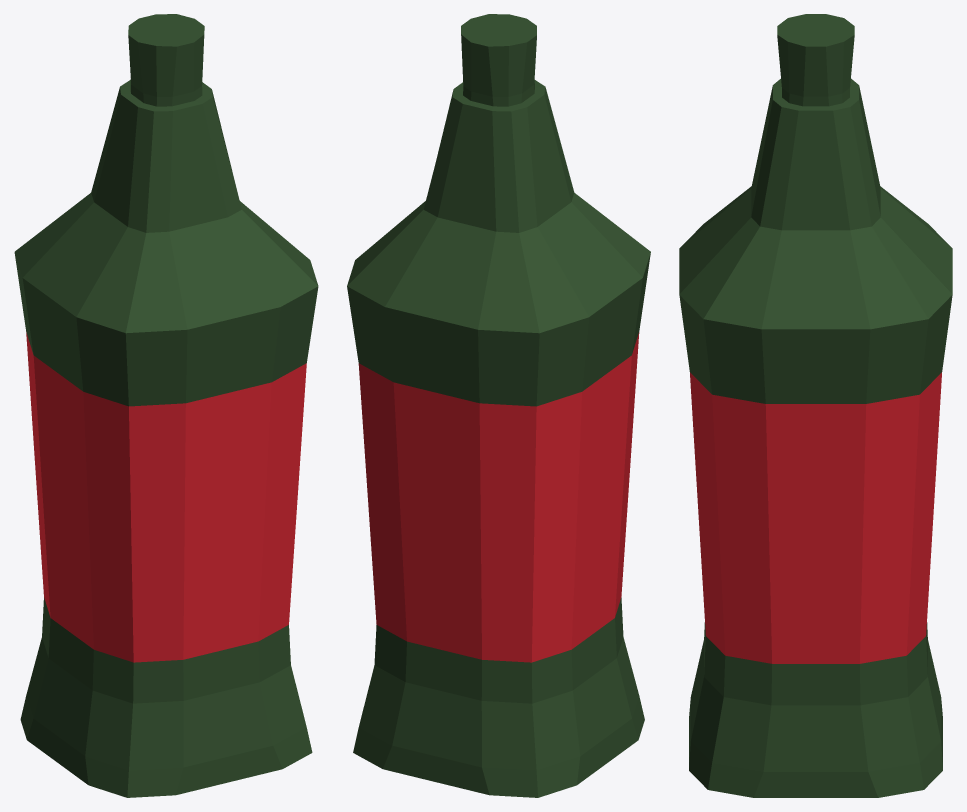
The model's file is Bottle_3.fbx.
The picture shows the model from 3 angles, left to right: view 1: azimuth 30°, elevation 25°; view 2: azimuth 150°, elevation 25°; view 3: azimuth 270°, elevation 25°; orthographic projection.
Visible parts, largest first — view 1: Bottle_3; view 2: Bottle_3; view 3: Bottle_3.
Boxes of the visible parts, <box> form: Bottle_3: <box>14,14,318,797</box>; Bottle_3: <box>347,14,650,797</box>; Bottle_3: <box>679,14,952,797</box>.
Bounding box in the file's own units: 0.2193 × 0.2193 × 0.6324.
